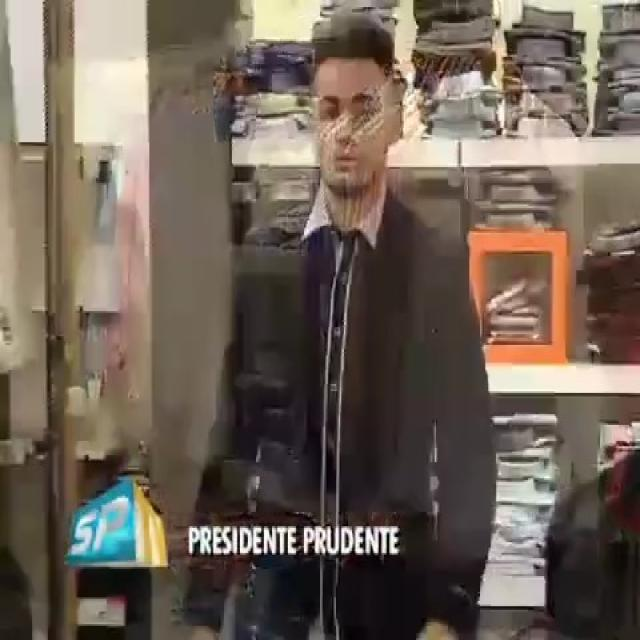Shirt: (184, 170, 498, 640)
